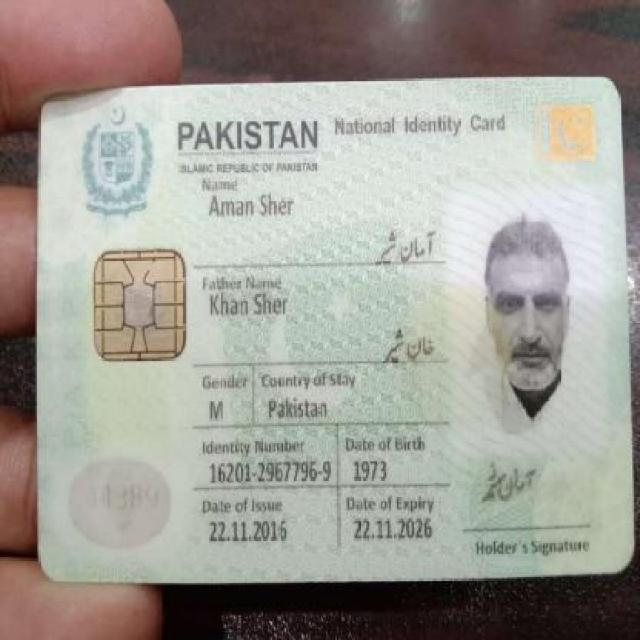Front: (26, 75, 634, 591)
